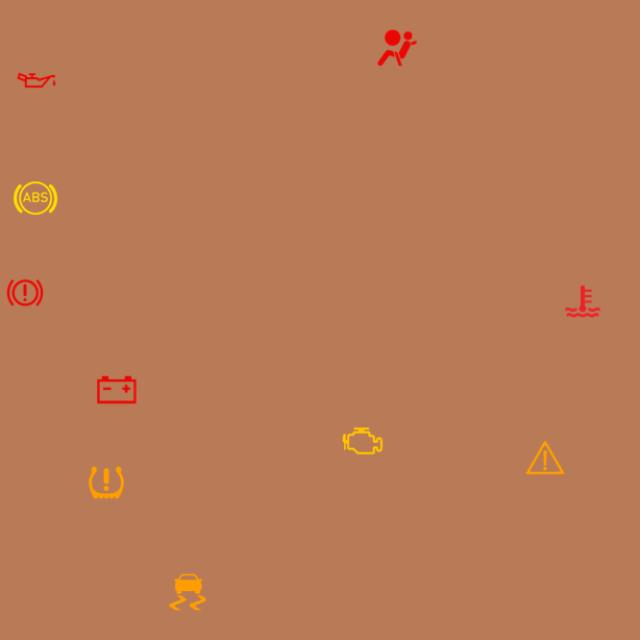Anti Lock Braking System: (12, 174, 59, 222)
Braking System Issue: (1, 269, 49, 317)
Charging System Issue: (92, 366, 140, 414)
Check Engine: (338, 417, 386, 465)
Electronic Stability Problem -ESP-: (164, 568, 212, 616)
Engine Overheating Warning Light: (558, 277, 606, 325)
Low Engine Oil Warning Light: (12, 56, 60, 105)
Low Tire Pressure Warning Light: (82, 458, 130, 506)
Master warning light: (521, 434, 569, 482)
SRS-Airbag: (373, 24, 421, 72)
